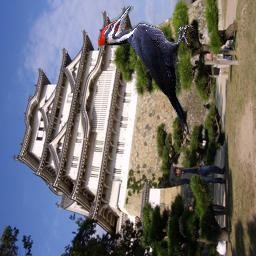Woodpecker: (98, 6, 194, 142)
